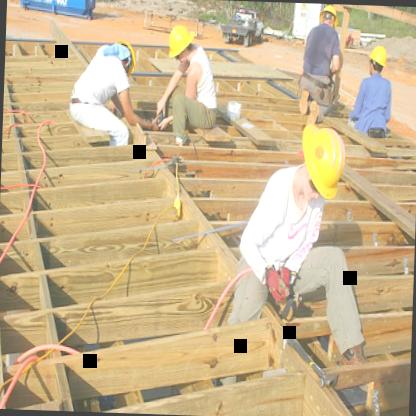helmet: (298, 119, 347, 205), (168, 24, 198, 63), (112, 34, 136, 76), (369, 46, 389, 77), (318, 4, 338, 31)
